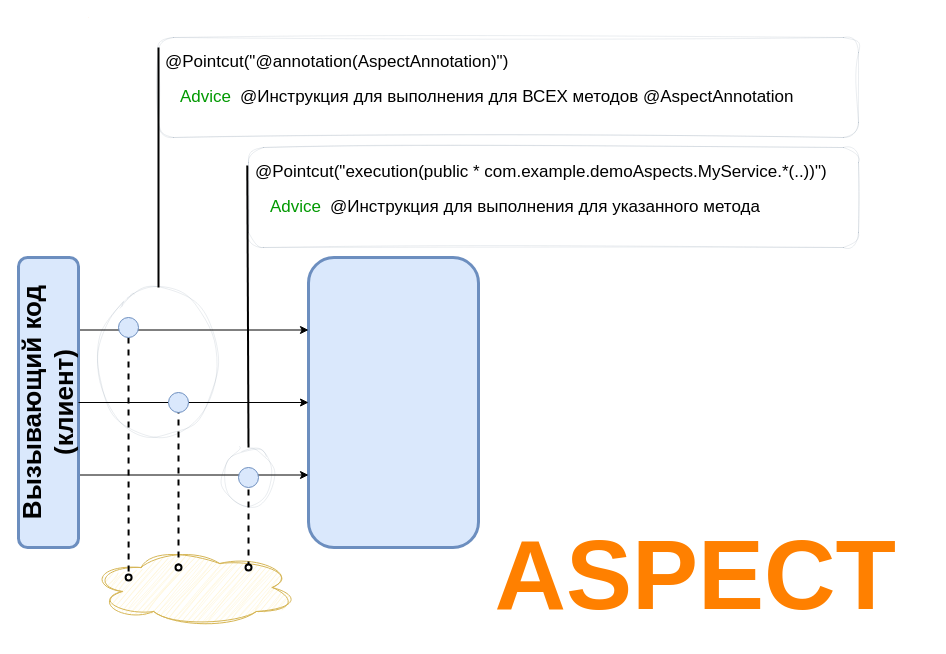
The diagram is 946 pixels wide and 654 high, and some of its shapes have lost their labels. Here are the shapes that lost their labels. From the top down, the box of each, then its label:
(306, 256, 480, 548): ЦЕЛЕВОЙ КОД
(88, 546, 298, 628): Join Points
